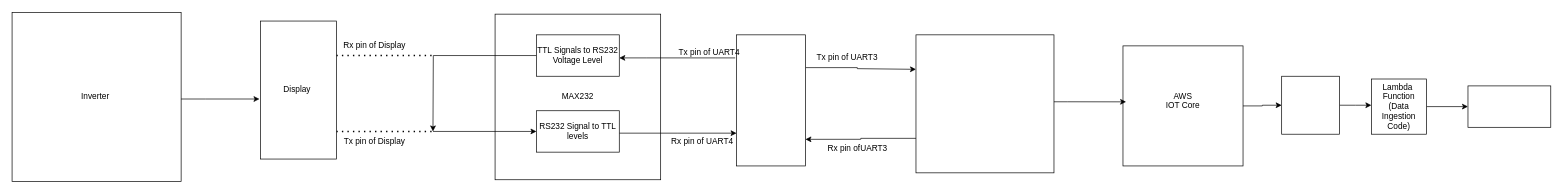
Image size: 1563x193. Some labels were removed from this diagram. Each missing label, with the centre of its shape:
"Amazon Dyanamo DB" goes at (x=1509, y=106).
"IOT Rule" goes at (x=1310, y=105).
"Micro" goes at (x=771, y=100).
"Quectel" goes at (x=984, y=103).
